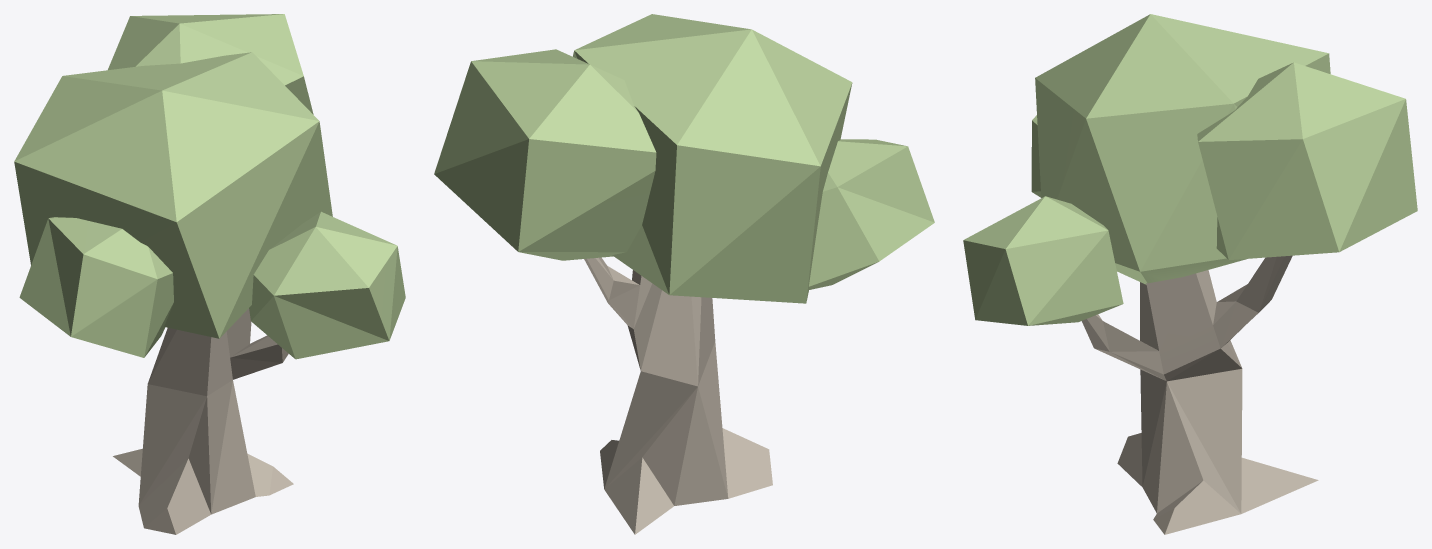
Rendered from common2Tree.fbx.
The picture shows the model from 3 angles, left to right: view 1: azimuth 30°, elevation 25°; view 2: azimuth 150°, elevation 25°; view 3: azimuth 270°, elevation 25°; orthographic projection. The views are drawn at different scales.
Parts seen in each view (by area): view 1: Vegetation_Tree_Common_05.001, Vegetation_Tree_Common_05; view 2: Vegetation_Tree_Common_05.001, Vegetation_Tree_Common_05; view 3: Vegetation_Tree_Common_05.001, Vegetation_Tree_Common_05.
Part boxes in pixels (<box>): Vegetation_Tree_Common_05.001: <box>14,14,405,359</box>; Vegetation_Tree_Common_05: <box>113,308,293,534</box>; Vegetation_Tree_Common_05.001: <box>434,14,934,303</box>; Vegetation_Tree_Common_05: <box>584,257,772,534</box>; Vegetation_Tree_Common_05.001: <box>963,14,1417,325</box>; Vegetation_Tree_Common_05: <box>1081,255,1318,534</box>.
Size of the model in its own units: 264 by 315 by 288.
